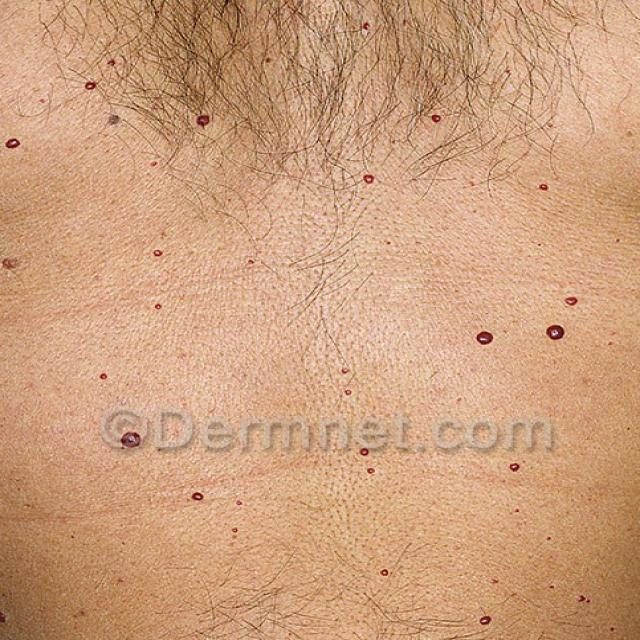Vascular Tumors: (0, 56, 640, 254), (0, 509, 623, 640), (297, 335, 640, 536), (41, 394, 252, 534), (434, 267, 609, 371)
